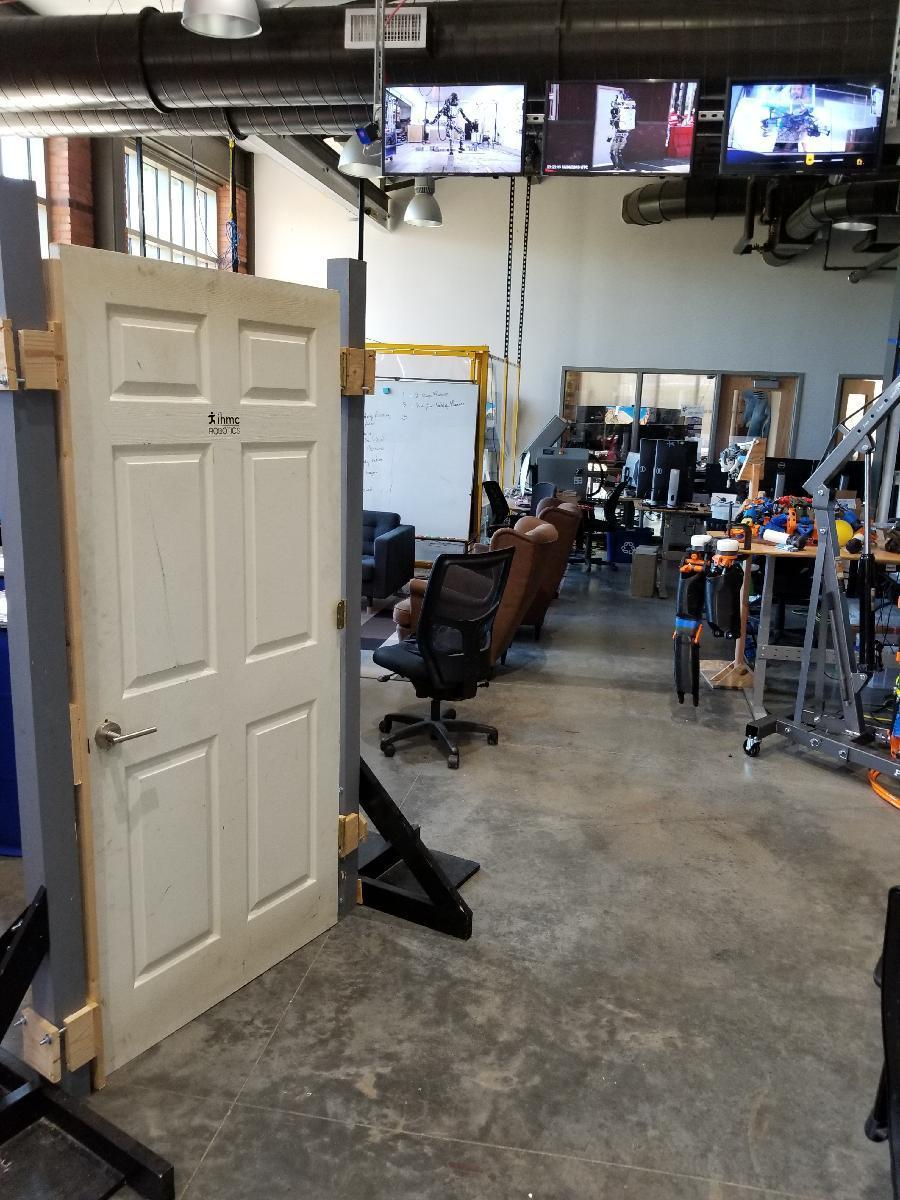door: (66, 248, 334, 1041)
handle: (93, 716, 160, 752)
